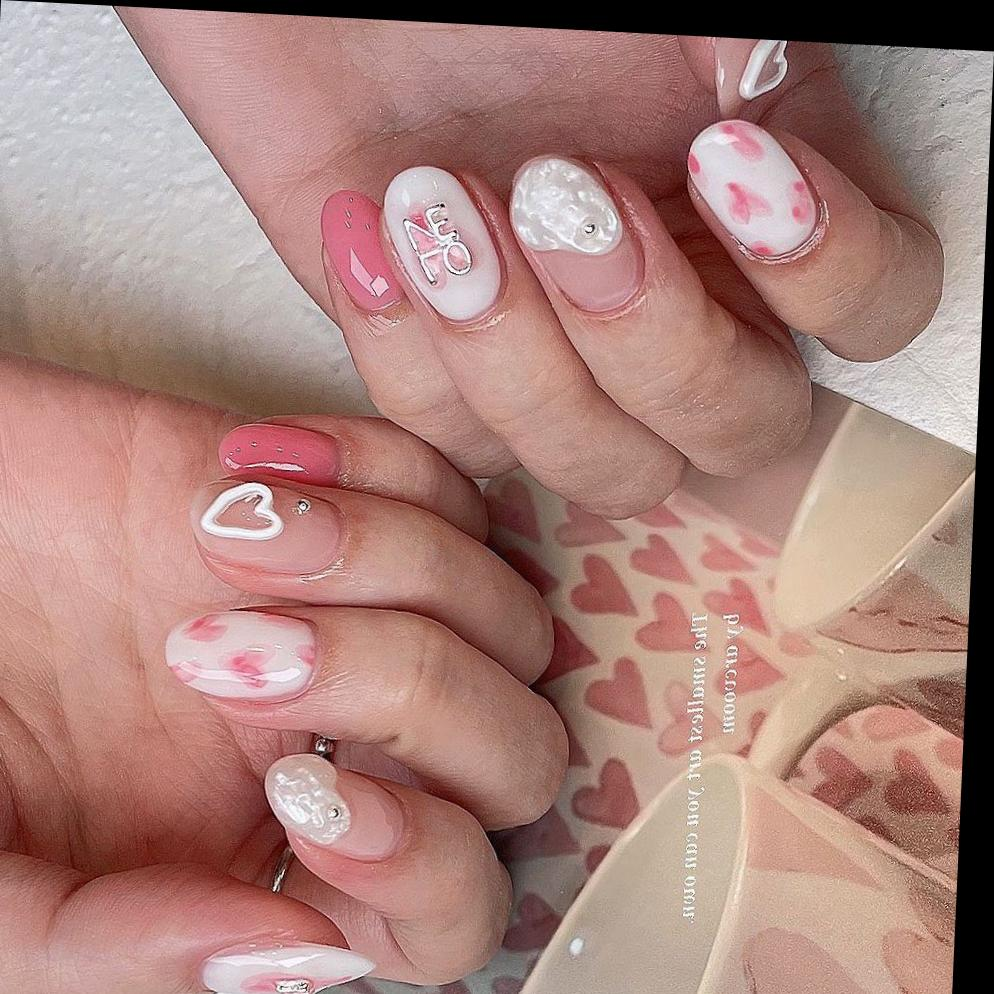nail: (501, 149, 651, 320), (375, 161, 513, 329), (679, 116, 832, 266), (258, 749, 407, 863), (187, 476, 346, 580), (159, 604, 319, 705), (314, 188, 414, 319), (197, 934, 375, 994), (213, 419, 341, 483), (736, 38, 791, 102)
